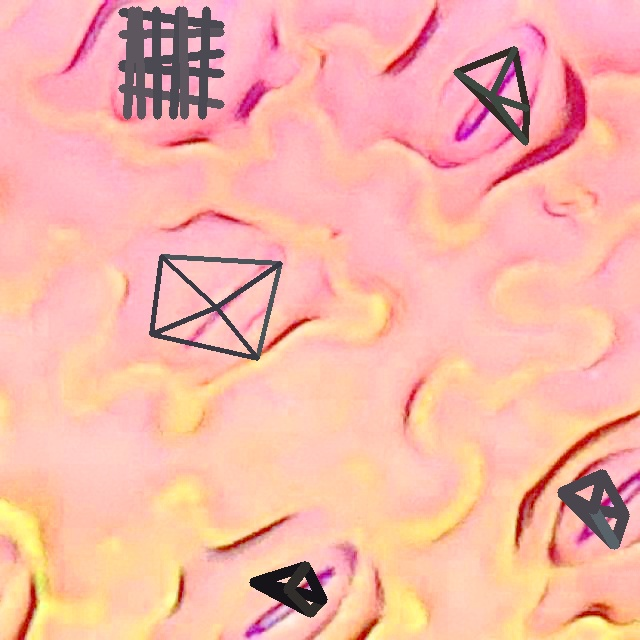close: (149, 254, 282, 360), (118, 6, 224, 119)
open: (453, 46, 529, 145), (558, 470, 628, 548), (249, 562, 326, 616)
